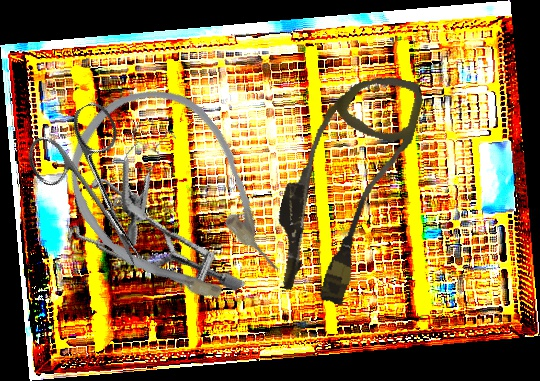Cannula: (37, 59, 312, 346), (260, 58, 428, 313)
Iris Scissors: (18, 97, 182, 287)
Speculum: (48, 139, 247, 351), (88, 110, 206, 248)
